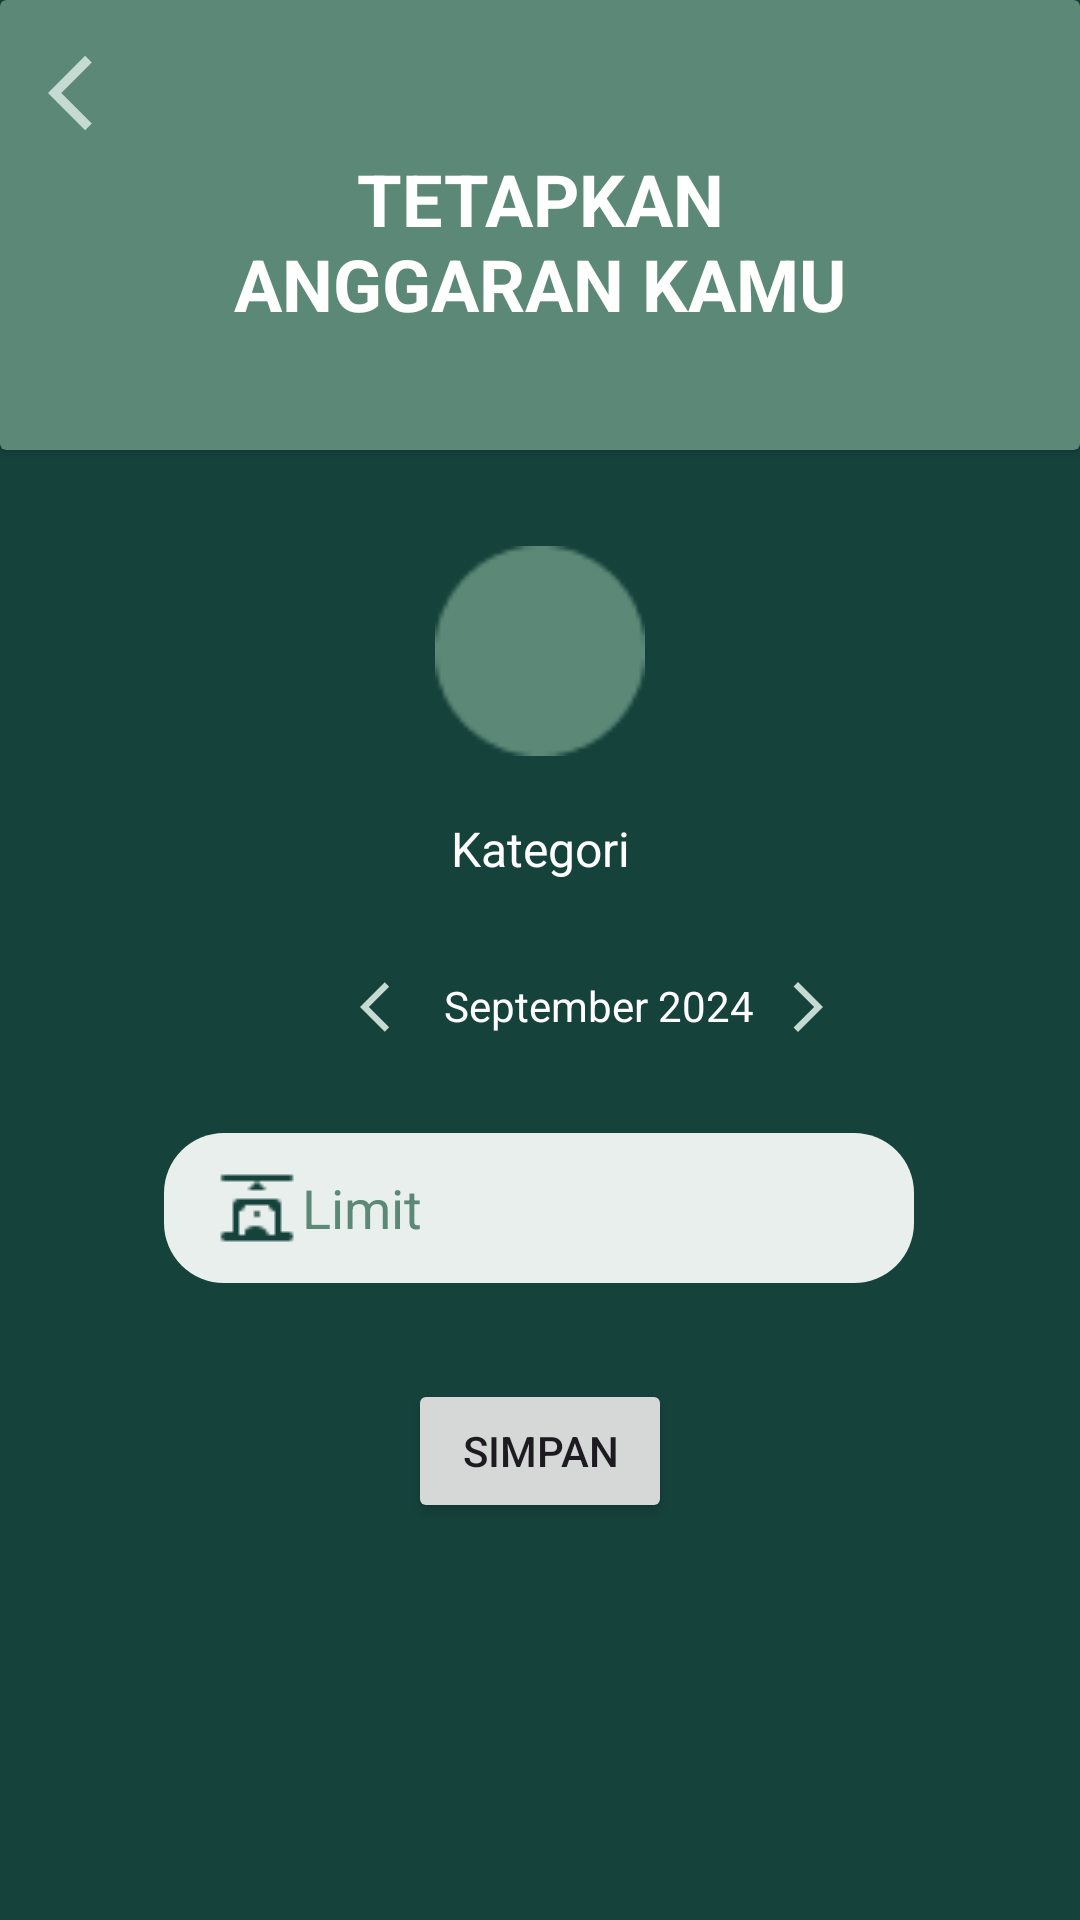

Screen size 1080 x 1920. Icon name, then its box in pixels as bbox=[x1, y1, x2, y2]:
arrow left: bbox=[48, 56, 92, 130], bbox=[360, 982, 389, 1032]
arrow right: bbox=[793, 982, 823, 1032]
